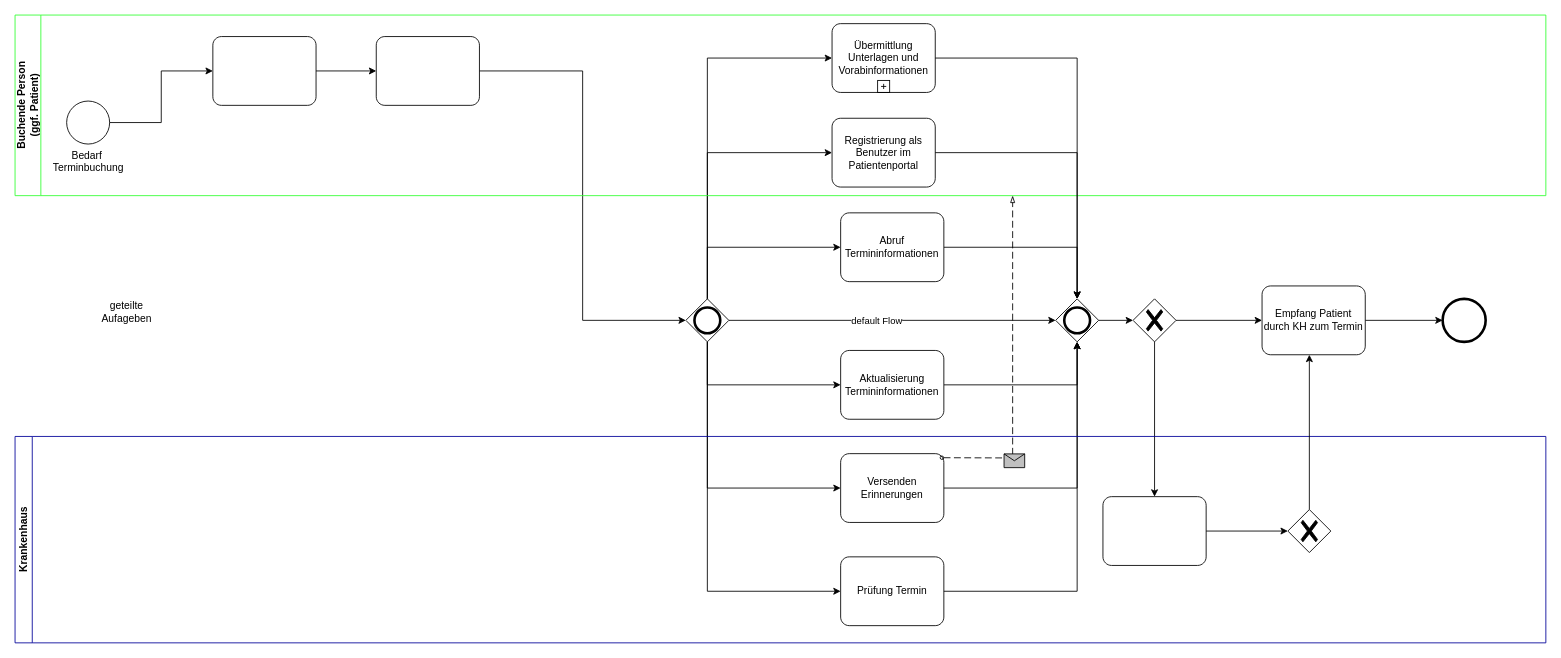
The diagram is 1561 pixels wide and 658 high, and some of its shapes have lost their labels. Each missing label, with the centre of its shape:
"Auswahl Services/ Fachbereiche" belongs at (264,70).
"Patient verifiziert im KH-System und Kontakt dokumentiert" belongs at (1464,320).
"Terminbuchung über das Patientenportal" belongs at (427,70).
"Vorbereitung Termin" belongs at (1154,530).
